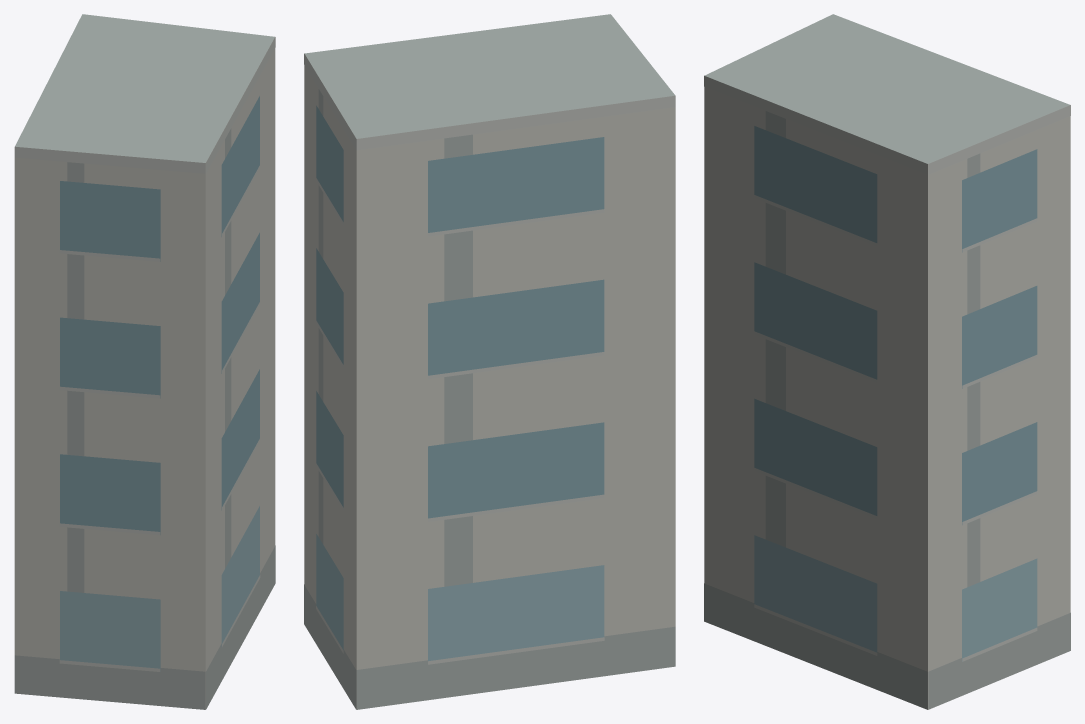
File: survey-upis-32945857.glb
3 views of the same model, side by side, from view 1: azimuth 30°, elevation 25°; view 2: azimuth 150°, elevation 25°; view 3: azimuth 270°, elevation 25° (orthographic). The views are drawn at different scales.
Parts seen in each view (by area): view 1: survey-upis-32945857.tmp; view 2: survey-upis-32945857.tmp; view 3: survey-upis-32945857.tmp.
Boxes of the visible parts, <box> form: survey-upis-32945857.tmp: <box>14,14,275,709</box>; survey-upis-32945857.tmp: <box>304,14,675,709</box>; survey-upis-32945857.tmp: <box>704,14,1070,709</box>.
Size of the model in its own units: 7.2 by 12.2 by 7.43.
